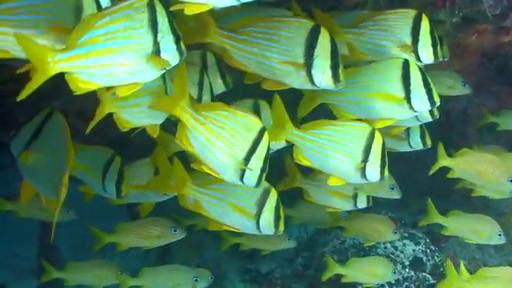Fish: (14, 0, 185, 100), (152, 64, 269, 187), (176, 13, 343, 90), (269, 95, 388, 184), (159, 157, 283, 235), (298, 59, 439, 127), (10, 108, 74, 239), (313, 9, 445, 64), (0, 0, 110, 59), (72, 144, 175, 203), (86, 73, 170, 136), (276, 157, 401, 199), (277, 157, 371, 211), (109, 158, 175, 217), (419, 199, 505, 244), (429, 143, 511, 187), (90, 217, 186, 251), (71, 144, 125, 199), (184, 49, 232, 103), (322, 256, 399, 286), (40, 260, 123, 287), (118, 264, 214, 287), (338, 212, 400, 245), (436, 260, 511, 287), (212, 6, 295, 30), (221, 232, 296, 255), (284, 200, 342, 228), (380, 125, 431, 151), (0, 198, 55, 222), (460, 262, 511, 287), (171, 0, 255, 15), (230, 99, 272, 129), (426, 69, 472, 95), (390, 108, 439, 131), (455, 180, 511, 199), (456, 180, 511, 199), (171, 213, 224, 230), (436, 259, 466, 287), (171, 213, 214, 229), (479, 109, 511, 130)
